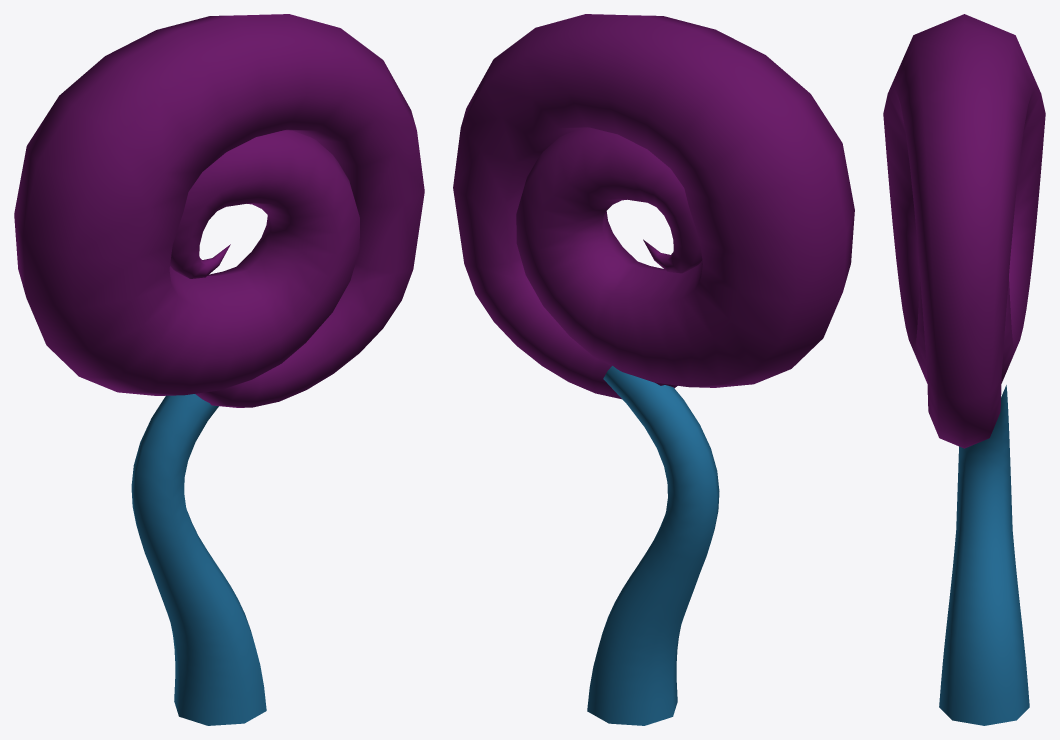
The model's file is candy_swirl.glb.
3 views of the same model, side by side, from view 1: azimuth 30°, elevation 25°; view 2: azimuth 150°, elevation 25°; view 3: azimuth 270°, elevation 25° (orthographic). The views are drawn at different scales.
Parts seen in each view (by area): view 1: Tree_Swirl_2; view 2: Tree_Swirl_2; view 3: Tree_Swirl_2.
Part boxes in pixels (x1,y1,x2,y2): Tree_Swirl_2: (14,14,424,725); Tree_Swirl_2: (453,14,854,725); Tree_Swirl_2: (883,14,1045,725).
Size of the model in its own units: 4.18 by 7 by 1.56.
Materials: 1 (1 with a texture image).
